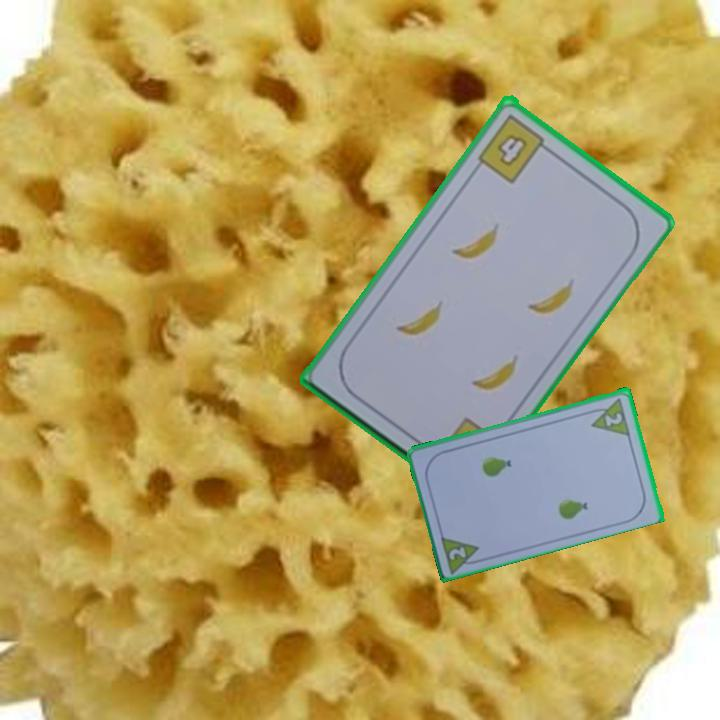2p: (437, 531, 486, 575), (585, 394, 633, 438)
4b: (474, 109, 555, 186)
